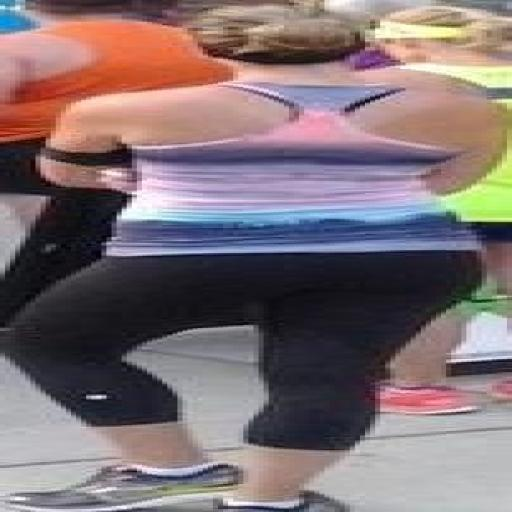person: (6, 6, 501, 511), (0, 0, 228, 325), (376, 6, 511, 111)
